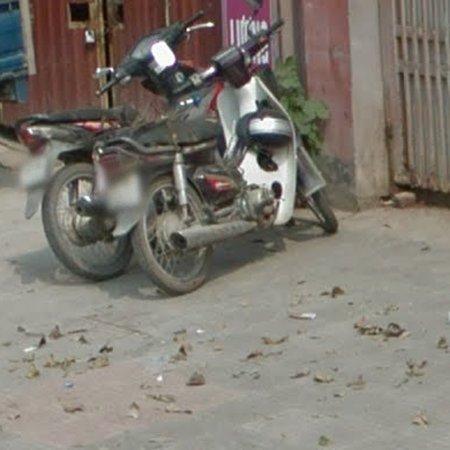motorcycles: (97, 20, 338, 295), (18, 107, 137, 280), (97, 11, 211, 106)
